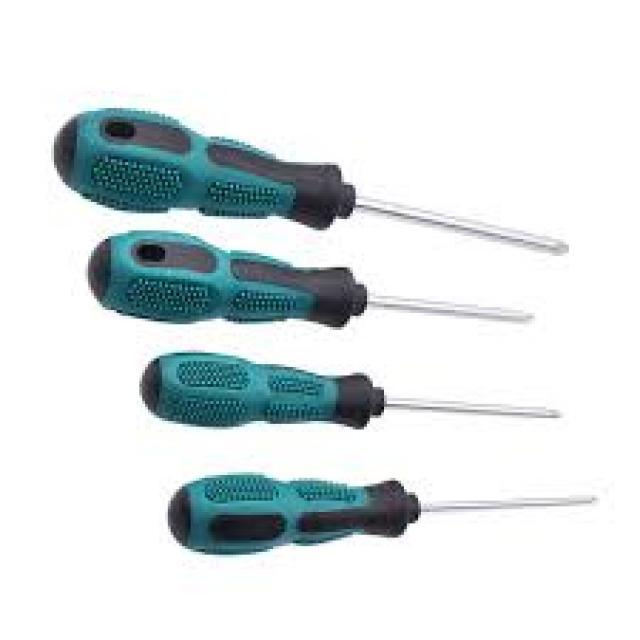screwdriver: (51, 101, 578, 272), (75, 224, 542, 336), (132, 334, 573, 437), (155, 470, 599, 560)
